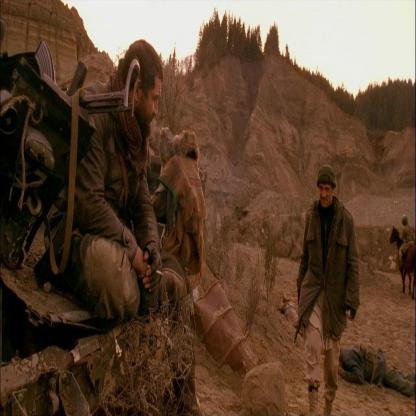face: (143, 81, 163, 127), (319, 178, 333, 208), (403, 220, 407, 227)
